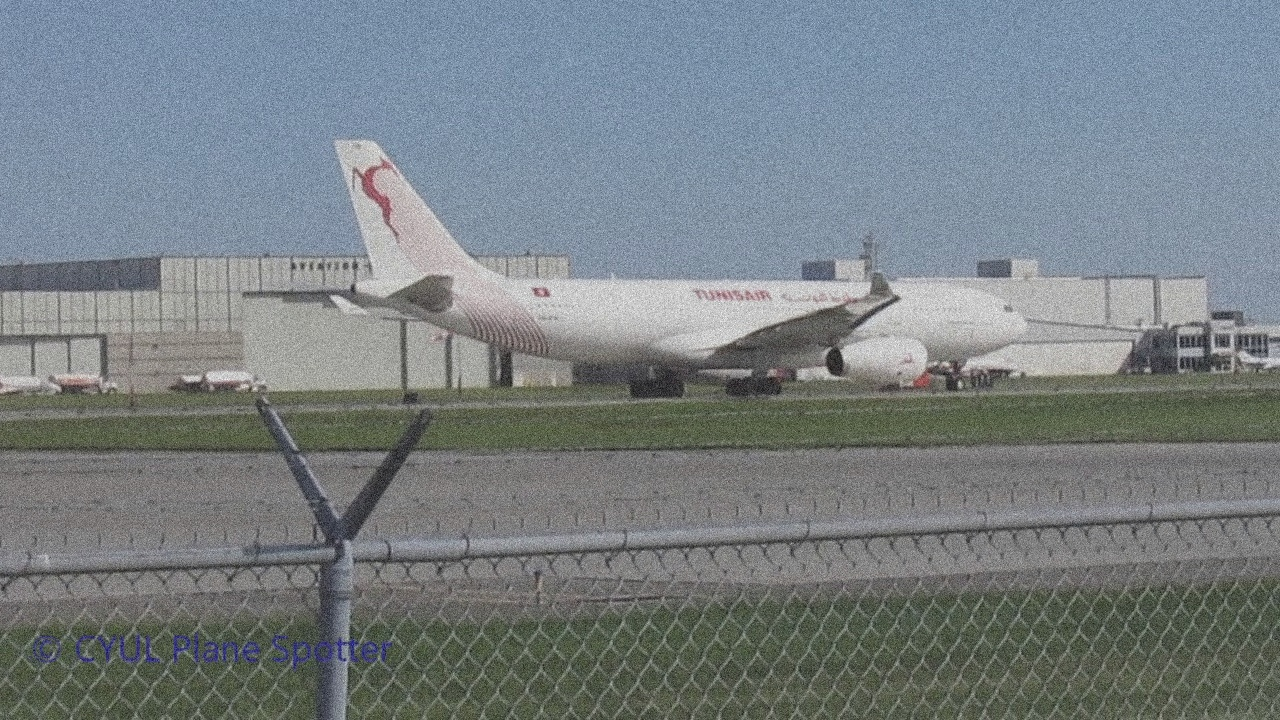Airplane: (247, 138, 1029, 403)
